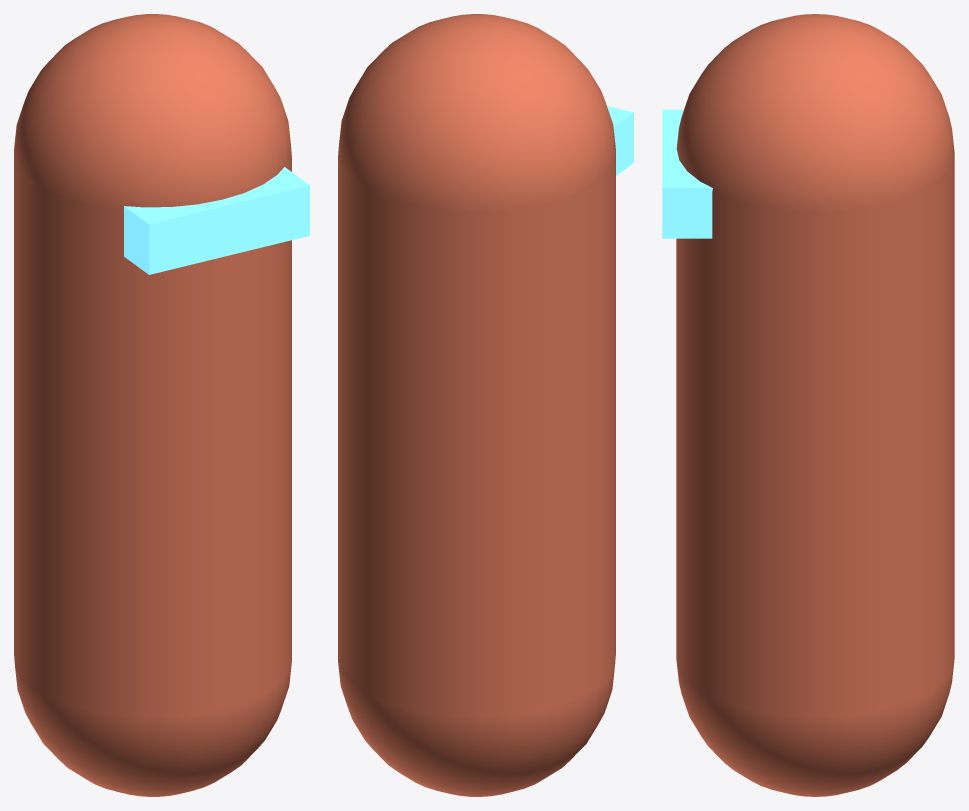
Rendered from walker.glb.
3 renders of one model, left to right at view 1: azimuth 30°, elevation 25°; view 2: azimuth 150°, elevation 25°; view 3: azimuth 270°, elevation 25°, orthographic.
Visible parts, largest first — view 1: walker, visor; view 2: walker, visor; view 3: walker, visor.
Boxes of the visible parts, x1,y1,x2,y2 form: walker: (14, 14, 291, 796); visor: (124, 167, 309, 274); walker: (338, 14, 615, 796); visor: (607, 106, 633, 175); walker: (676, 14, 954, 796); visor: (662, 109, 712, 238).
Bounding box in the file's own units: 0.6 × 1.8 × 0.63.
